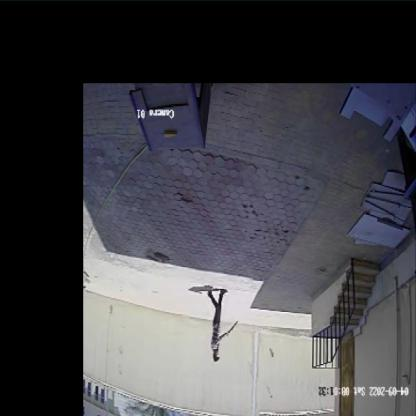handgun: (222, 317, 240, 342)
